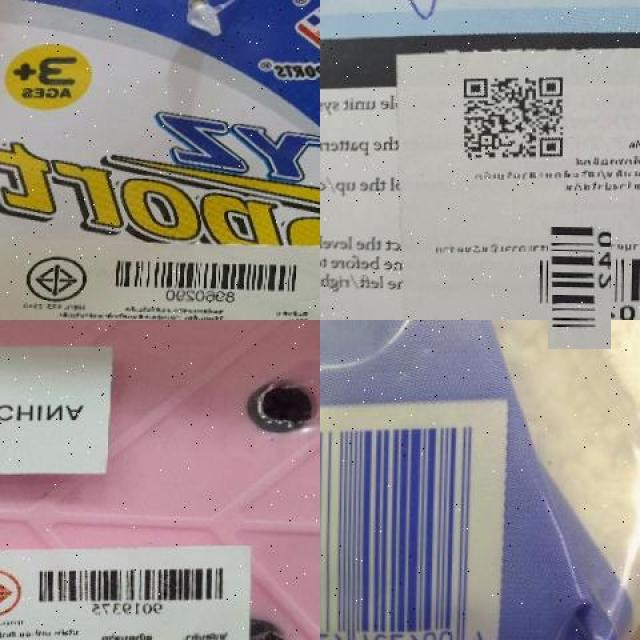Barcode: (320, 403, 504, 640), (23, 561, 233, 623), (99, 254, 306, 307), (532, 242, 626, 334)
